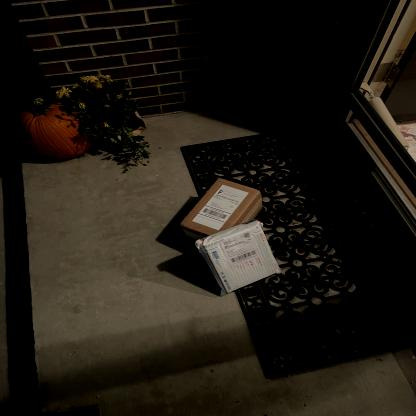box: (178, 177, 260, 241)
plastic_bag: (196, 221, 280, 295)
